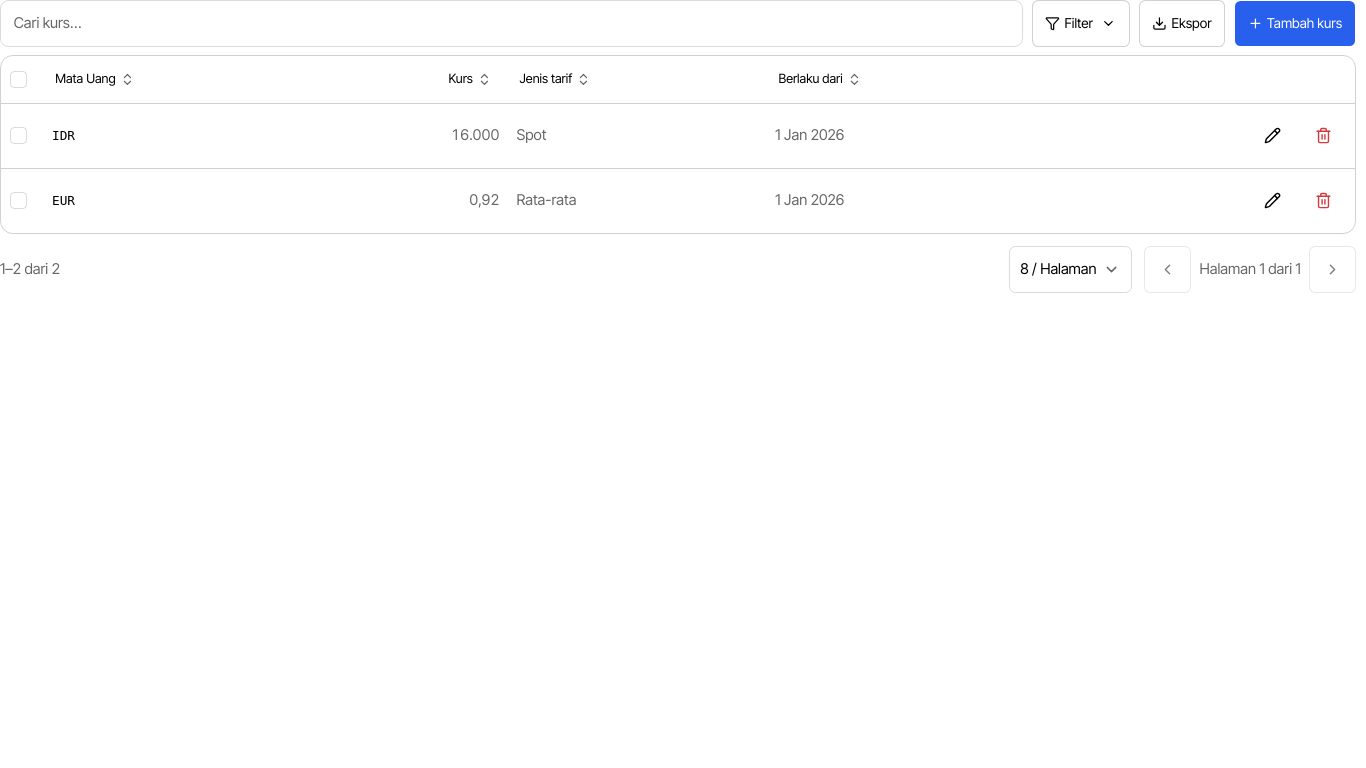
Test: FxRatesSection › requires a rate value when creating
Click the button "Tambah kurs": (1295,23) [1234,0,1356,47]
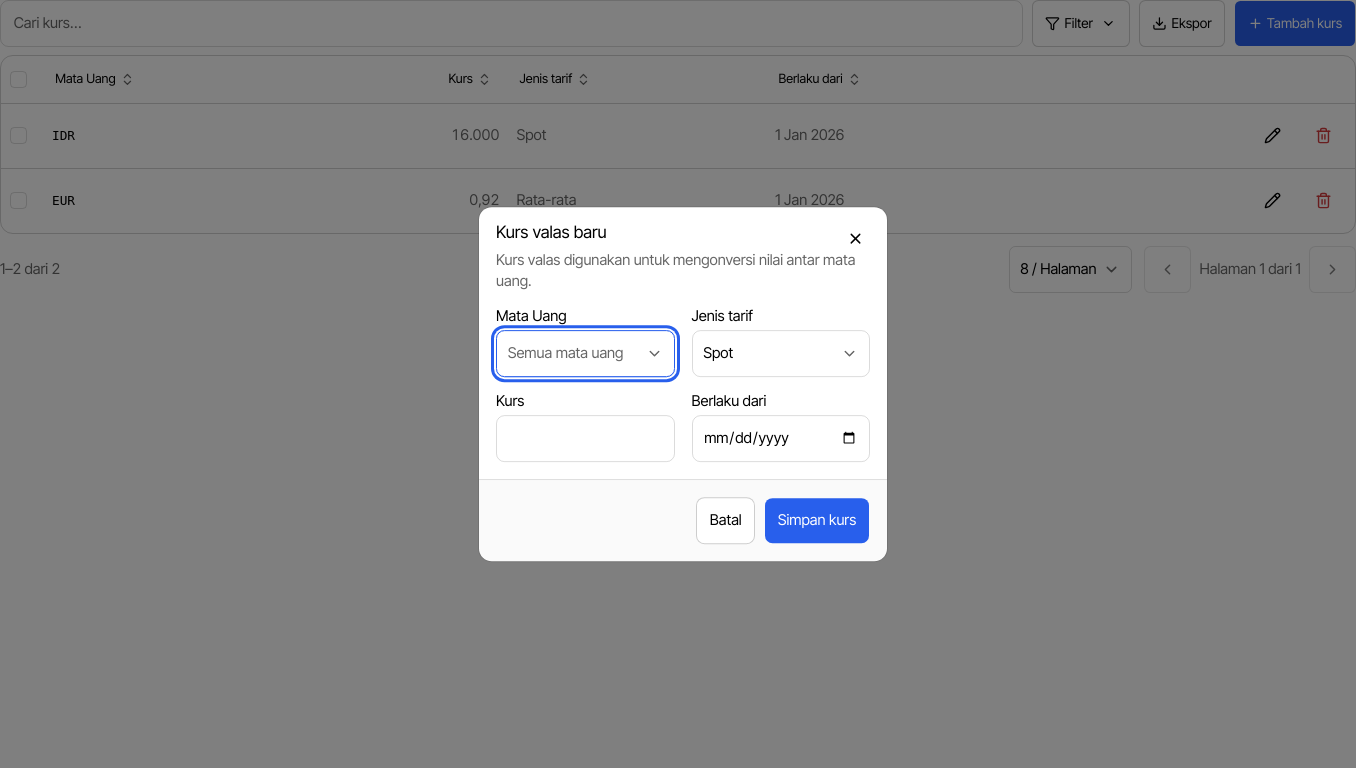
In the date field labelled "Berlaku dari": (781,439) [692,415,870,462], type "2026-09-01"
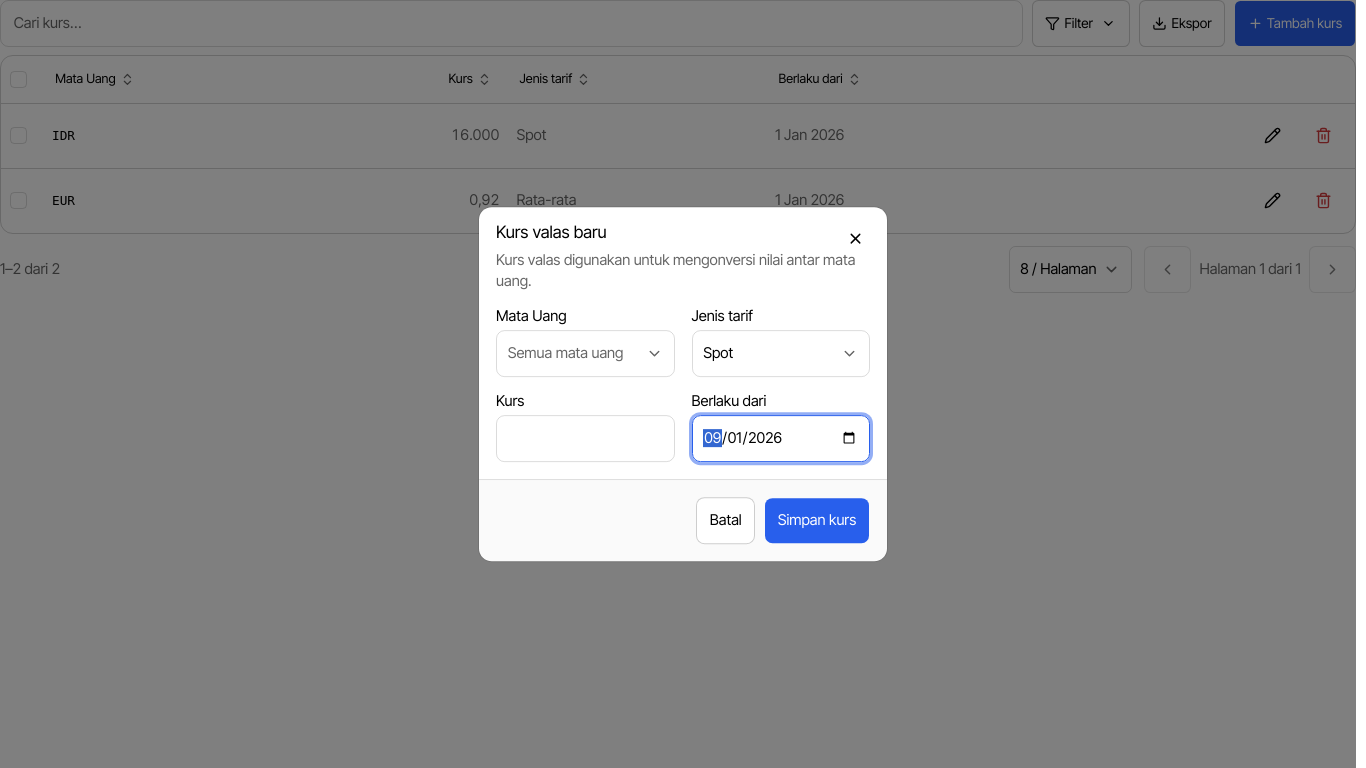
Click the button "Simpan kurs": (817,520) [764,497,870,544]
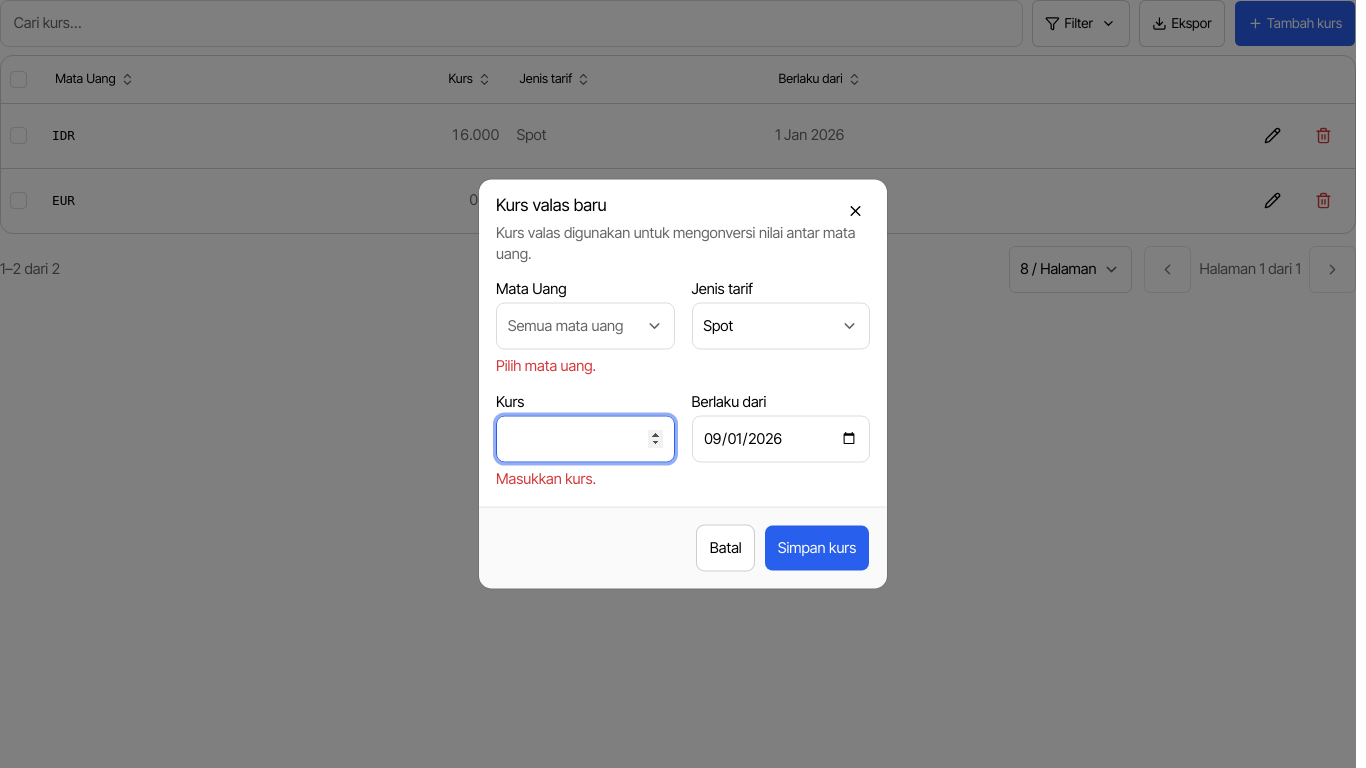
Check: the text "Masukkan kurs." is shown, box [496,470,596,488]
